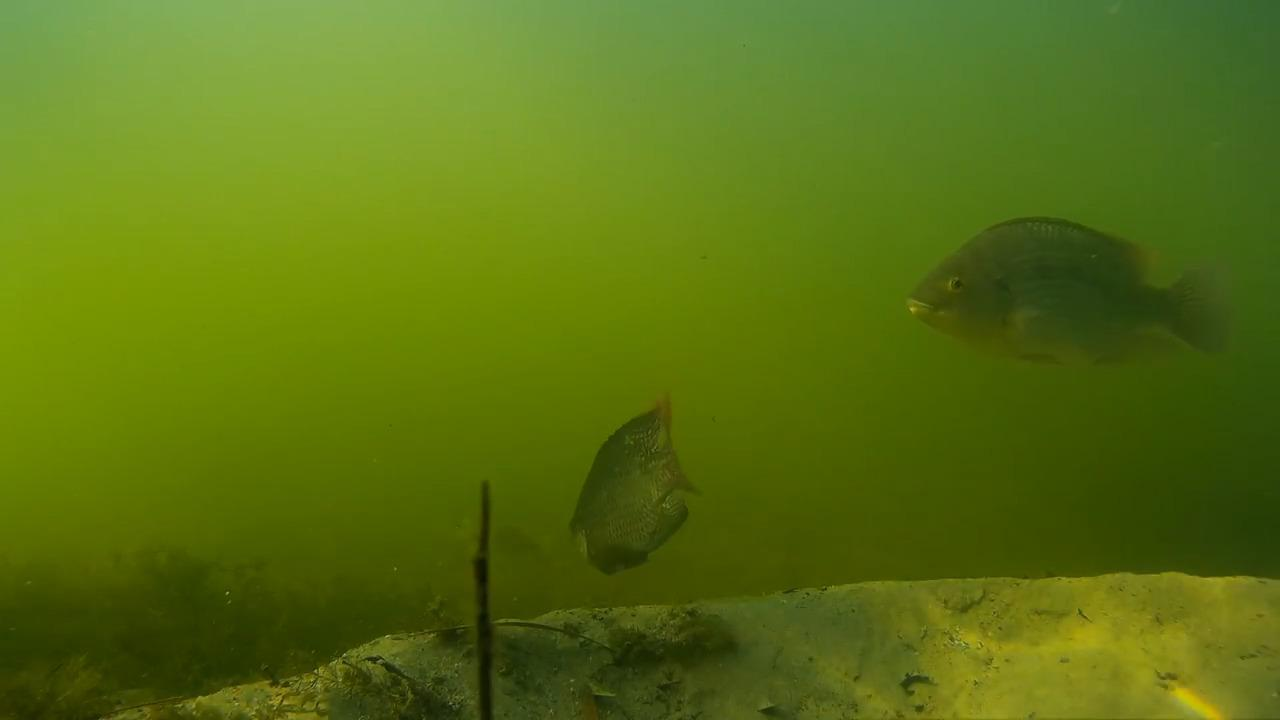Tilapia: (883, 206, 1244, 372), (570, 394, 709, 592)
